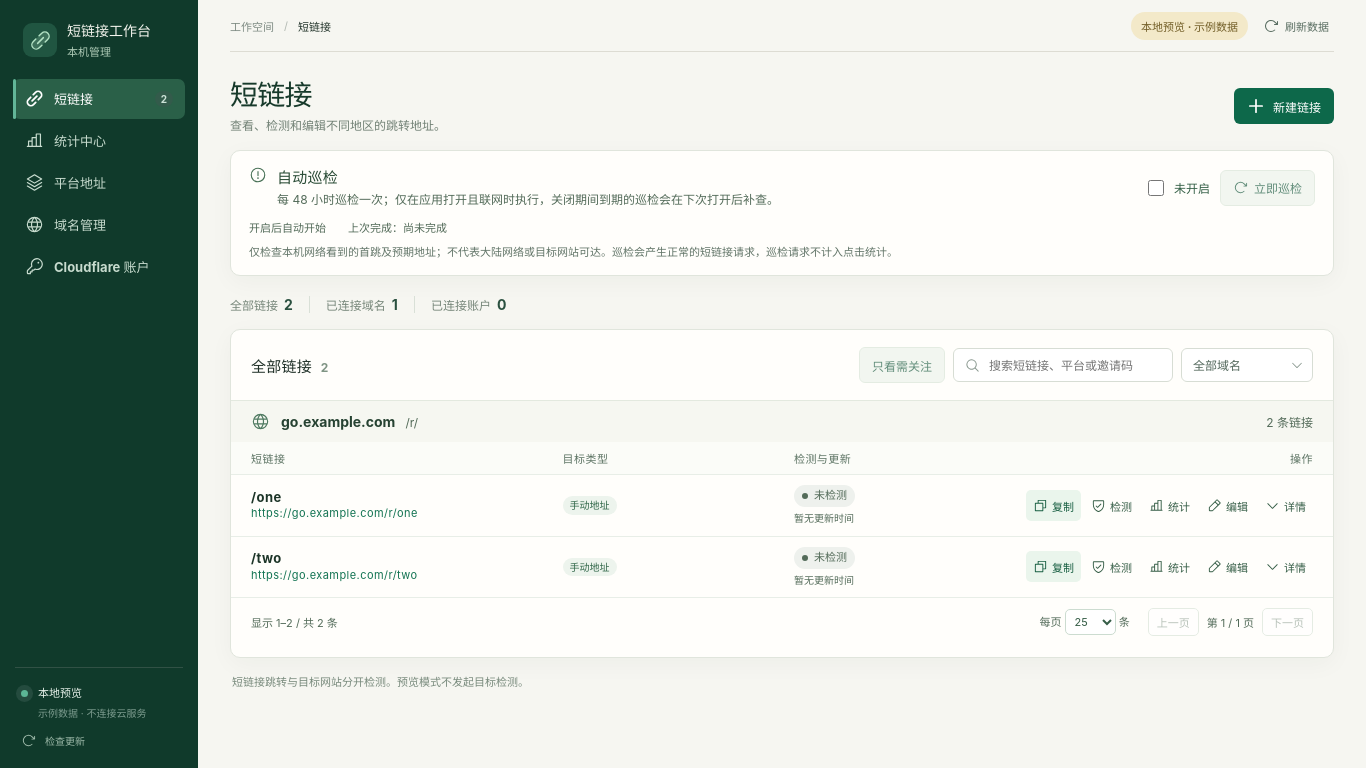
Scenario: prepares only one destructive target while its confirmation is loading
Click the button with aria-label "详情 one": (1286, 506) [1258,490,1313,521]
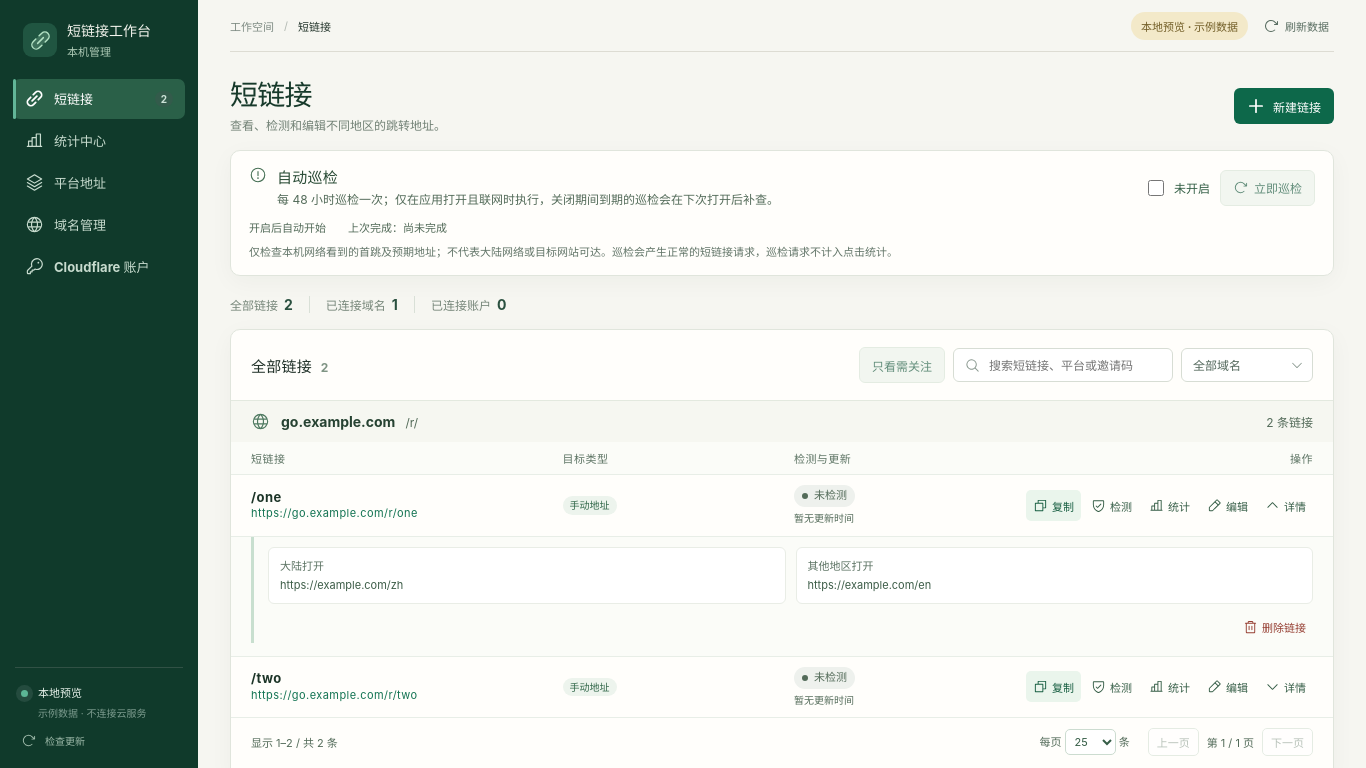
Click the button with aria-label "删除 one": (1274, 627) [1236,612,1313,643]
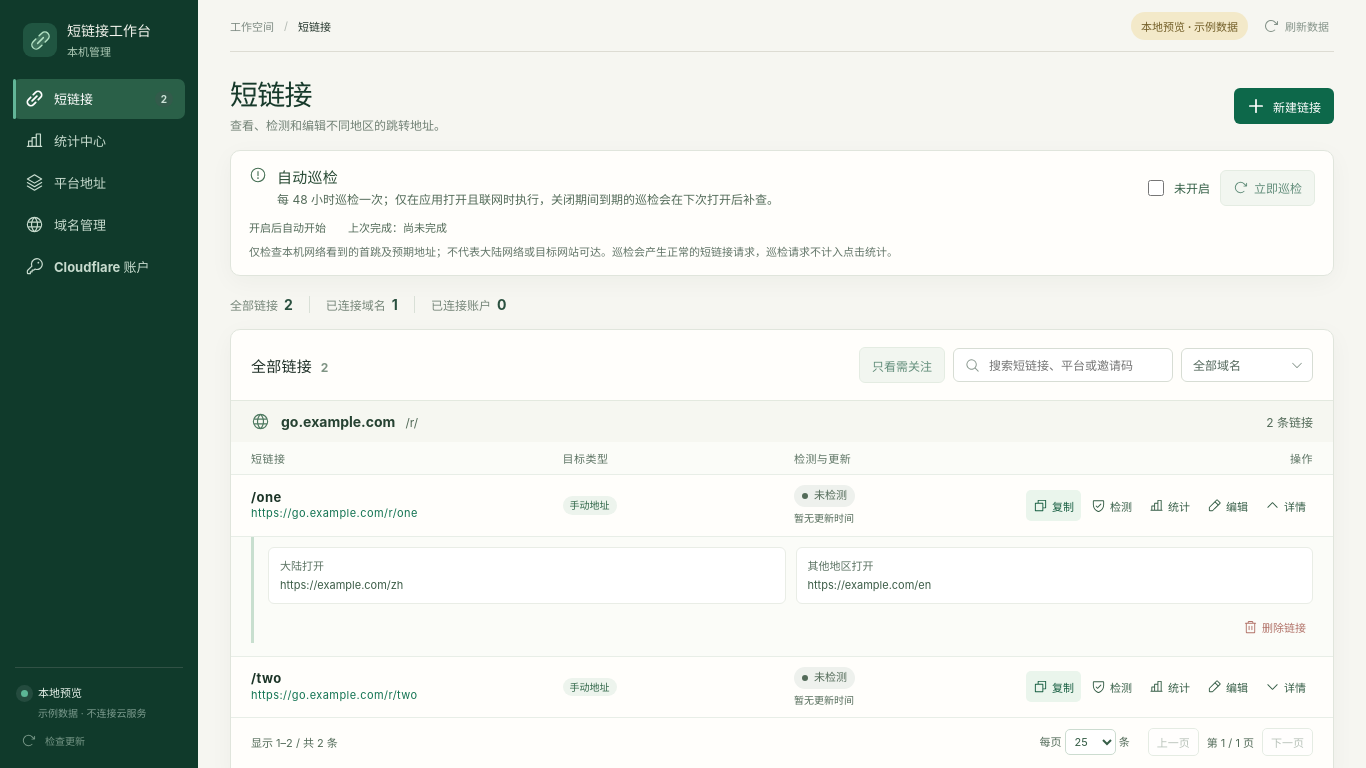
Click the button with aria-label "详情 two": (1286, 687) [1258,672,1313,702]
(page scrolled)
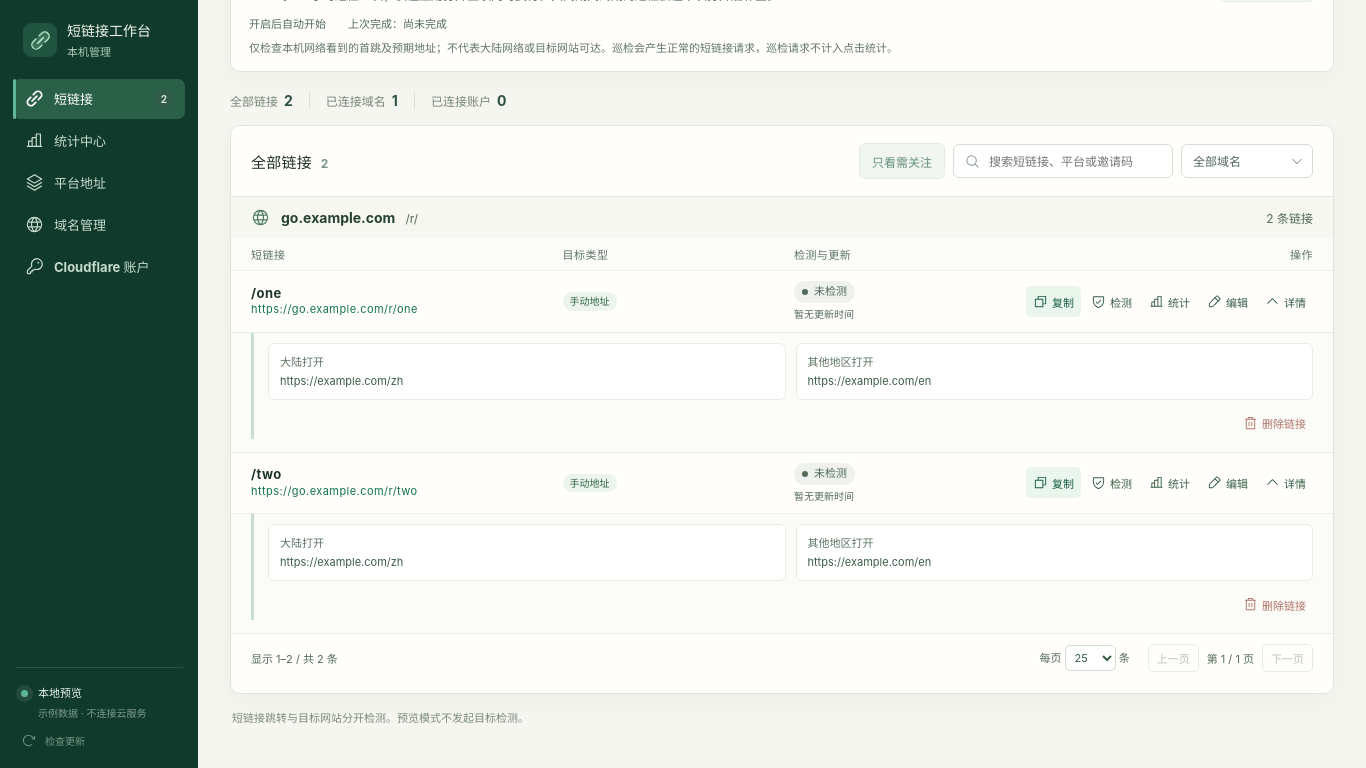
Check: the button with aria-label "删除 two" is disabled
Click the button with aria-label "删除 two": (1274, 605) [1236,589,1313,620]
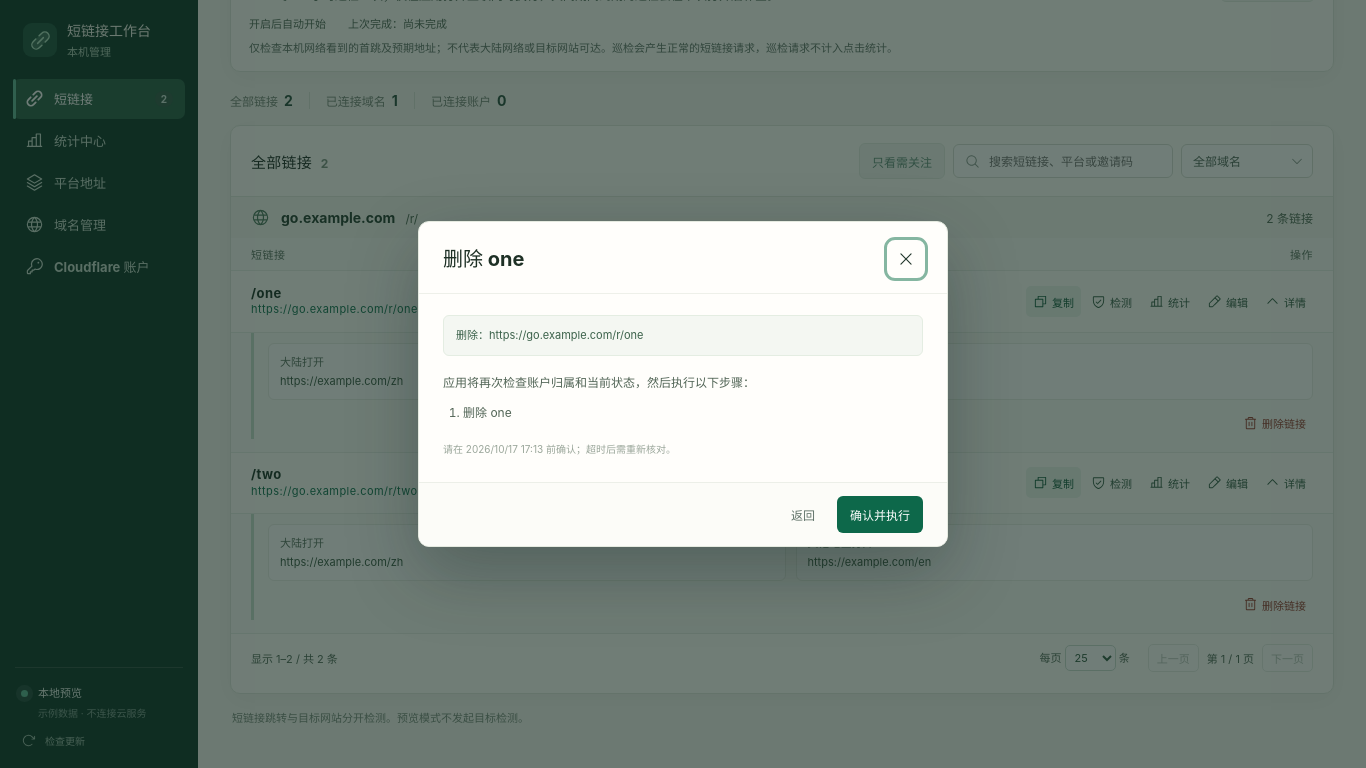
Check: the dialog "删除 one" shows "go.example.com/r/one", box [456,328,644,342]
